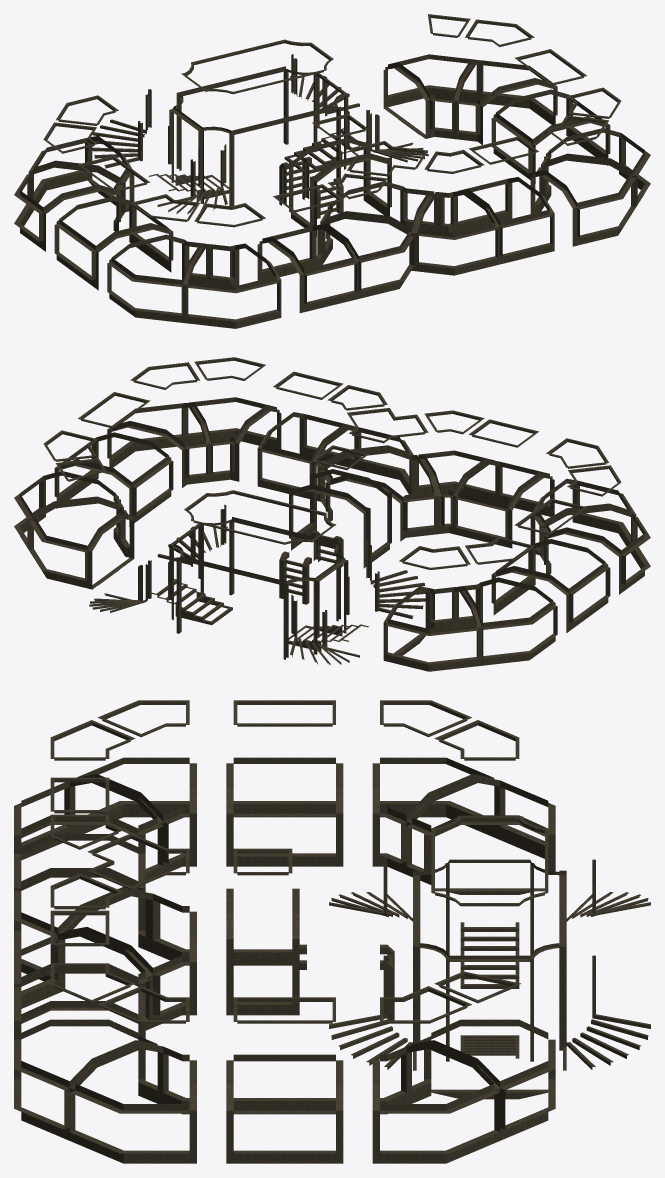
Rendered from DF_01_METAL.fbx.
3 renders of one model, top to bottom at view 1: azimuth 30°, elevation 25°; view 2: azimuth 150°, elevation 25°; view 3: azimuth 270°, elevation 25°, orthographic. The views are drawn at different scales.
Parts seen in each view (by area): view 1: DF_01_METAL; view 2: DF_01_METAL; view 3: DF_01_METAL.
Part boxes in pixels (x1,y1,x2,y2): DF_01_METAL: [14, 14, 650, 328]; DF_01_METAL: [14, 357, 650, 671]; DF_01_METAL: [14, 700, 650, 1163].
Bounding box in the file's own units: 57 × 11.5 × 43.5.
